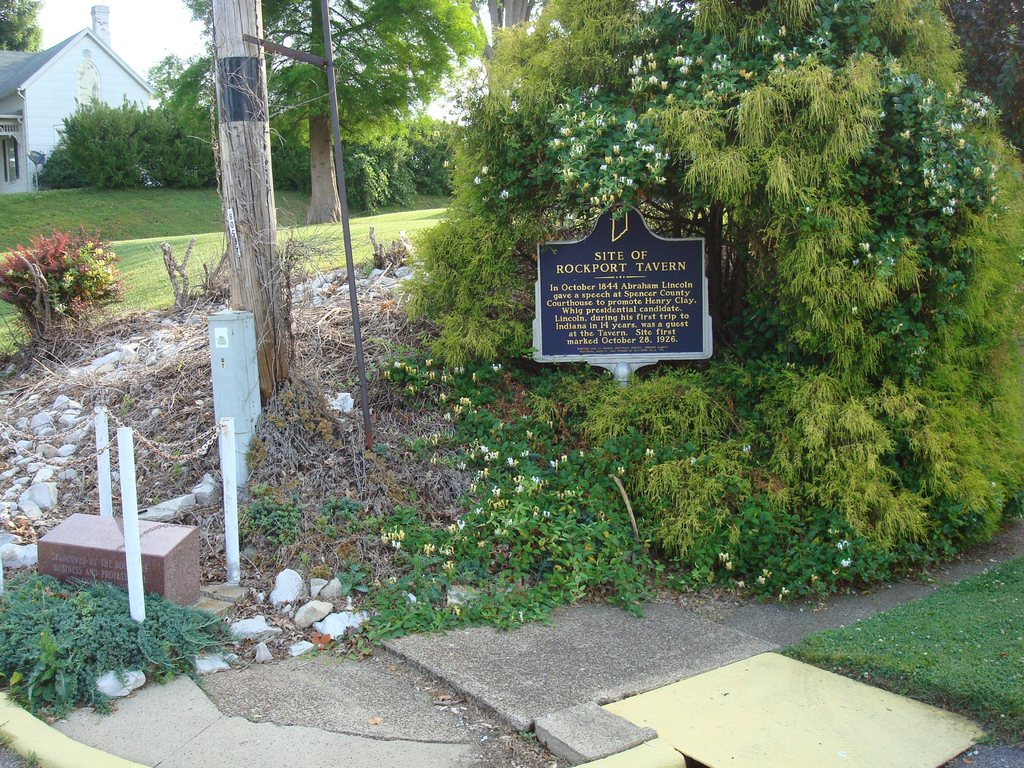Tree: (394, 0, 1023, 557), (186, 0, 490, 227), (0, 0, 44, 51)
